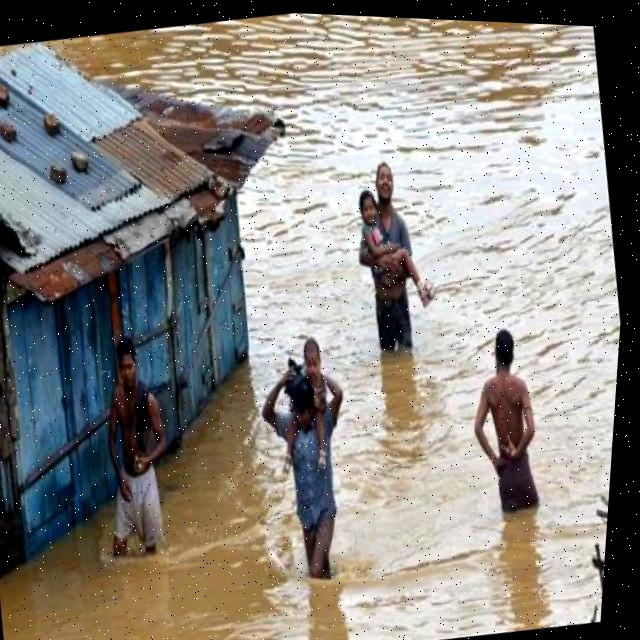civilian: (230, 324, 389, 603), (57, 315, 201, 583), (316, 141, 461, 382), (441, 309, 581, 532), (256, 325, 357, 491), (340, 180, 435, 313)
